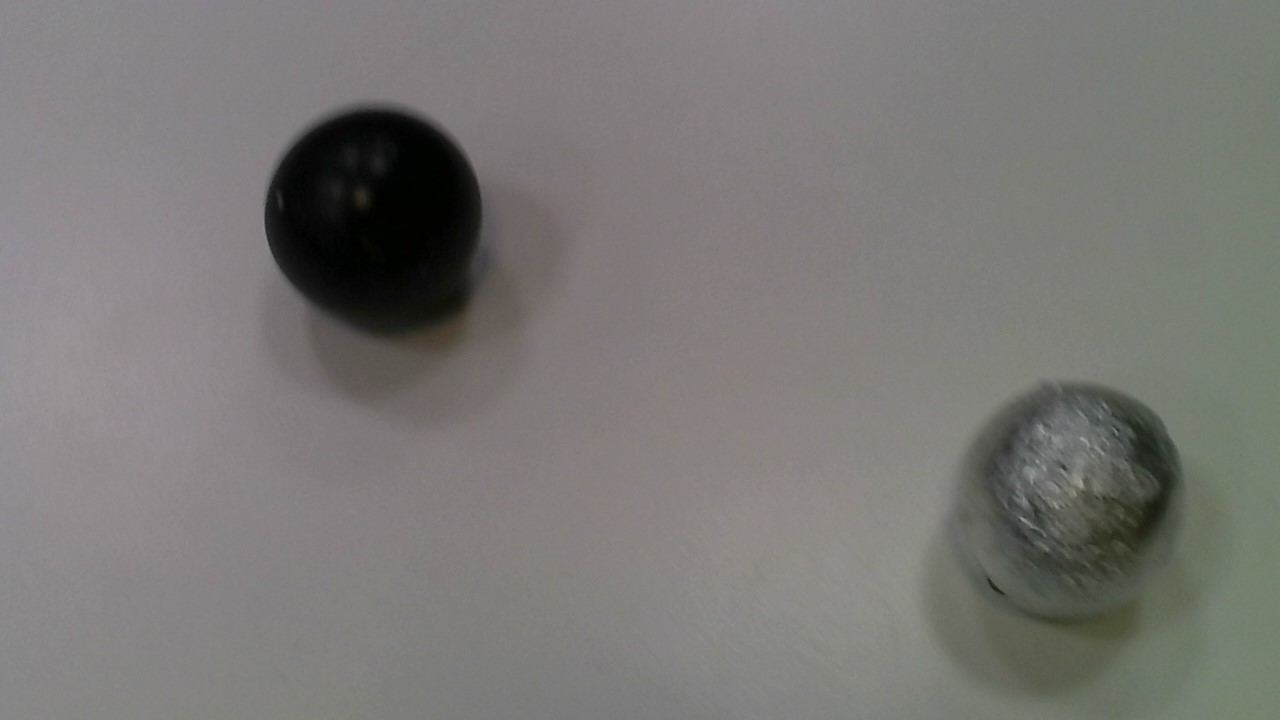black_ball: (259, 101, 489, 333)
silver_ball: (950, 369, 1193, 629)
